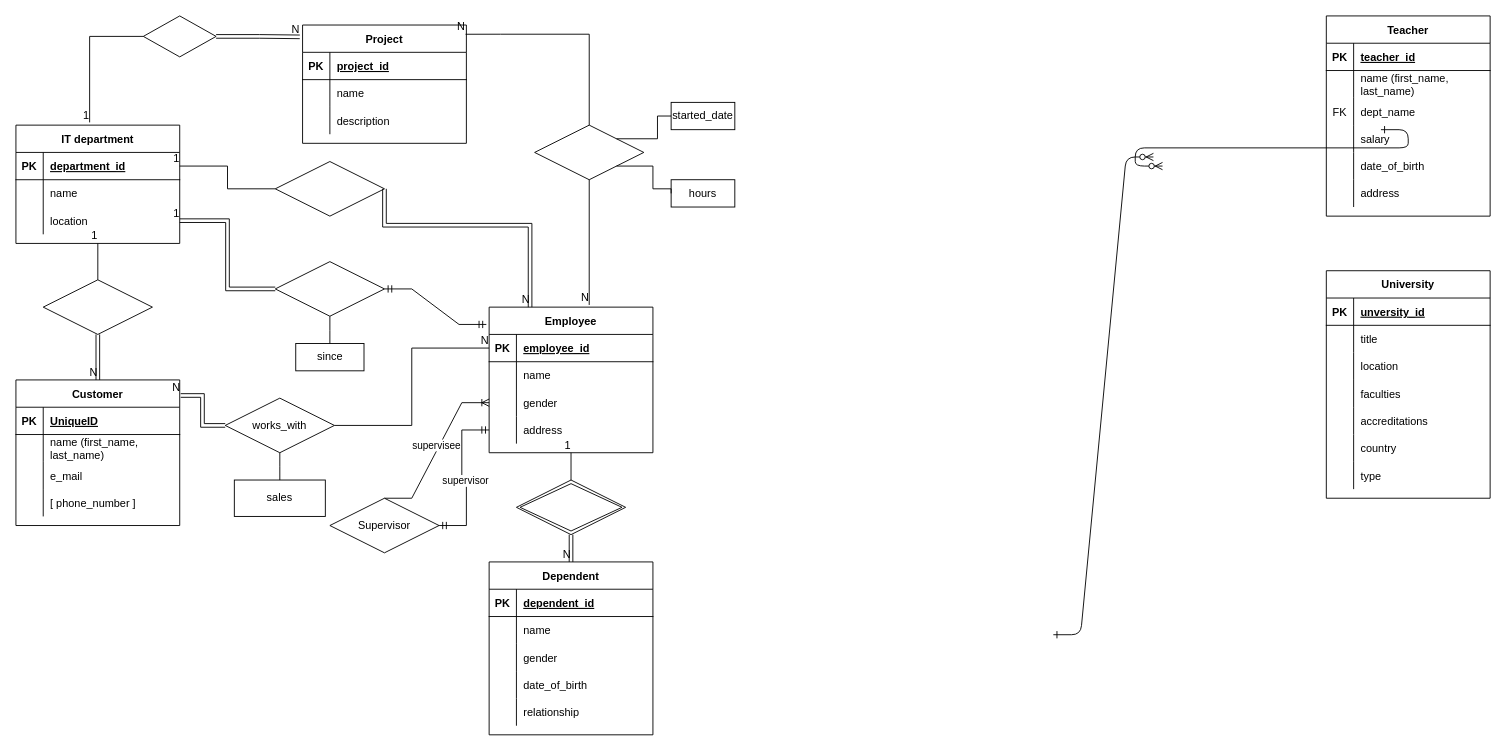
The diagram is 1506 pixels wide and 751 high, and some of its shapes have lost their labels. The centre of each missing label's shape, as x and y in pixels:
cares_for: (x=571, y=507)
Handles: (x=97, y=306)
has: (x=179, y=36)
Manager: (x=329, y=288)
work_in: (x=329, y=188)
works: (x=589, y=152)
